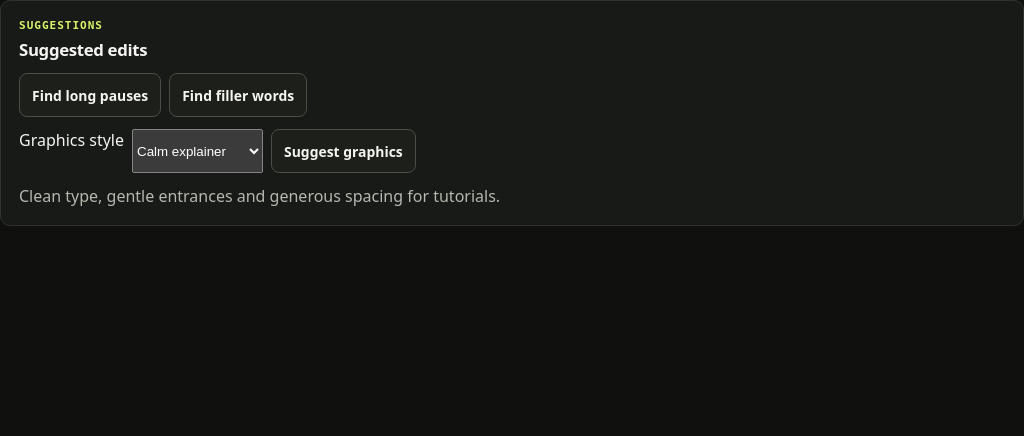
Test: ProposalsPanel graphics › applies only the ticked graphics
This screenshot has width=1024, height=436.
Select "Punchy short-form" in the dropdown labelled "Graphics style" at (198, 151), box 132,129 -> 263,173
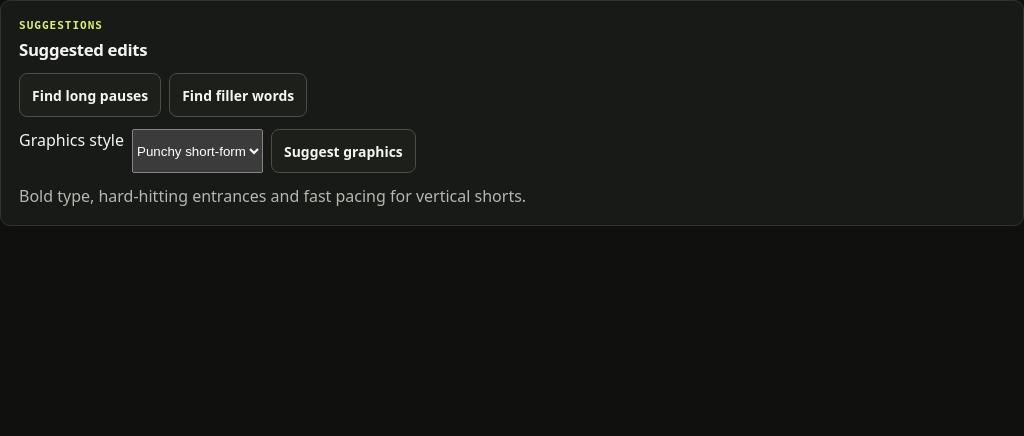
Click the button "Suggest graphics" at (343, 151), box 271,129 -> 416,173
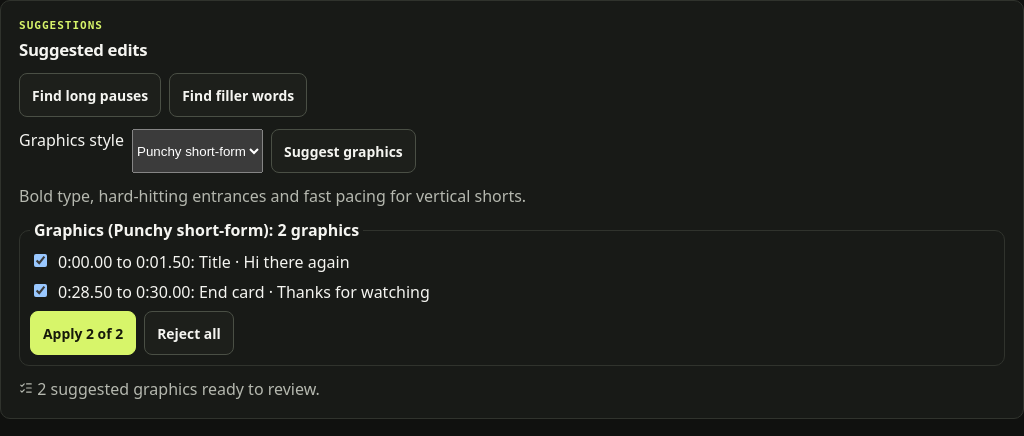
Click the checkbox labelled "0:28.50 to 0:30.00: End card · Thanks for watching" at (40, 291), box 34,284 -> 47,297
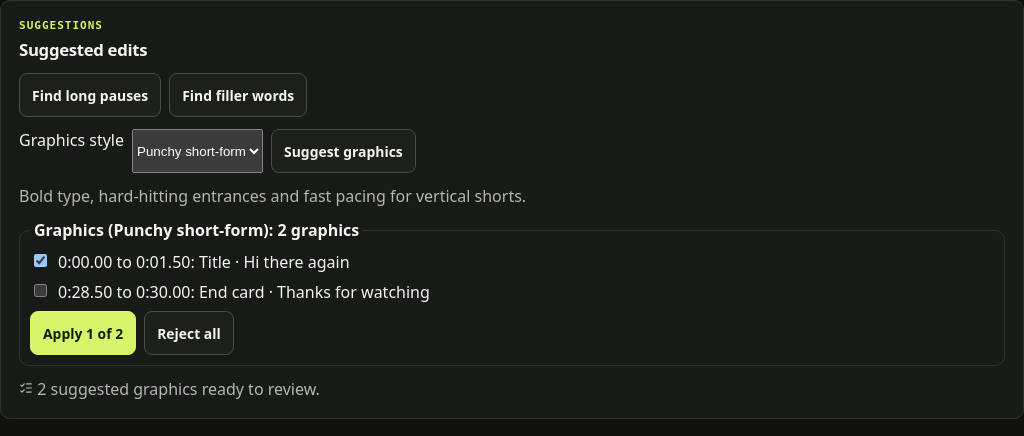
Click the button "Apply 1 of 2" at (83, 333), box 30,311 -> 136,355
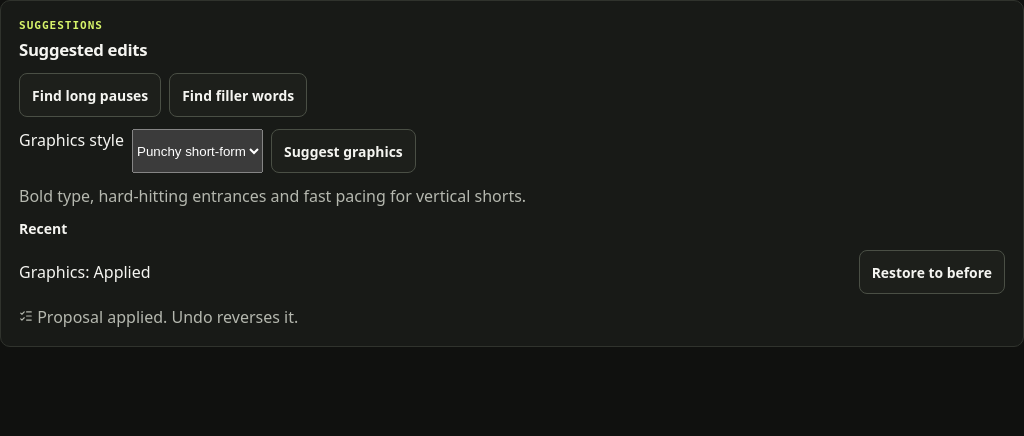
Check: the text "Proposal applied. Undo reverses it." is shown, box 19,306 -> 298,328
